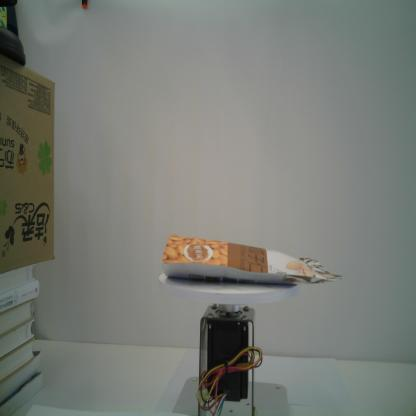Dried Fruit: (161, 233, 344, 286)
